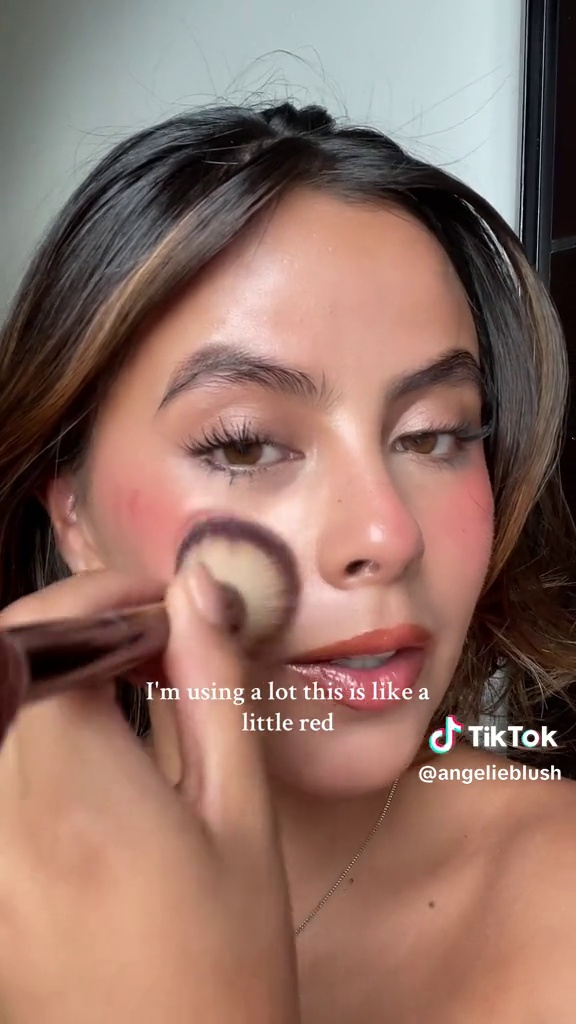train' :'yolo_data/train/images',: (1, 510, 304, 737)
